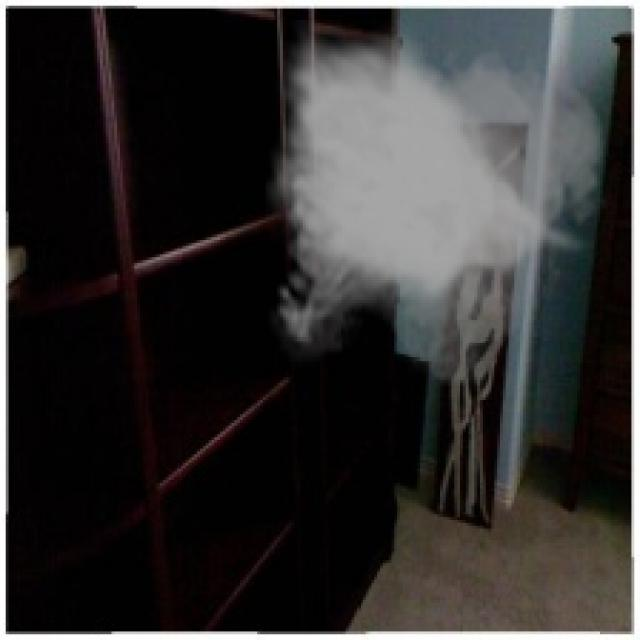smoke: (266, 20, 608, 386)
